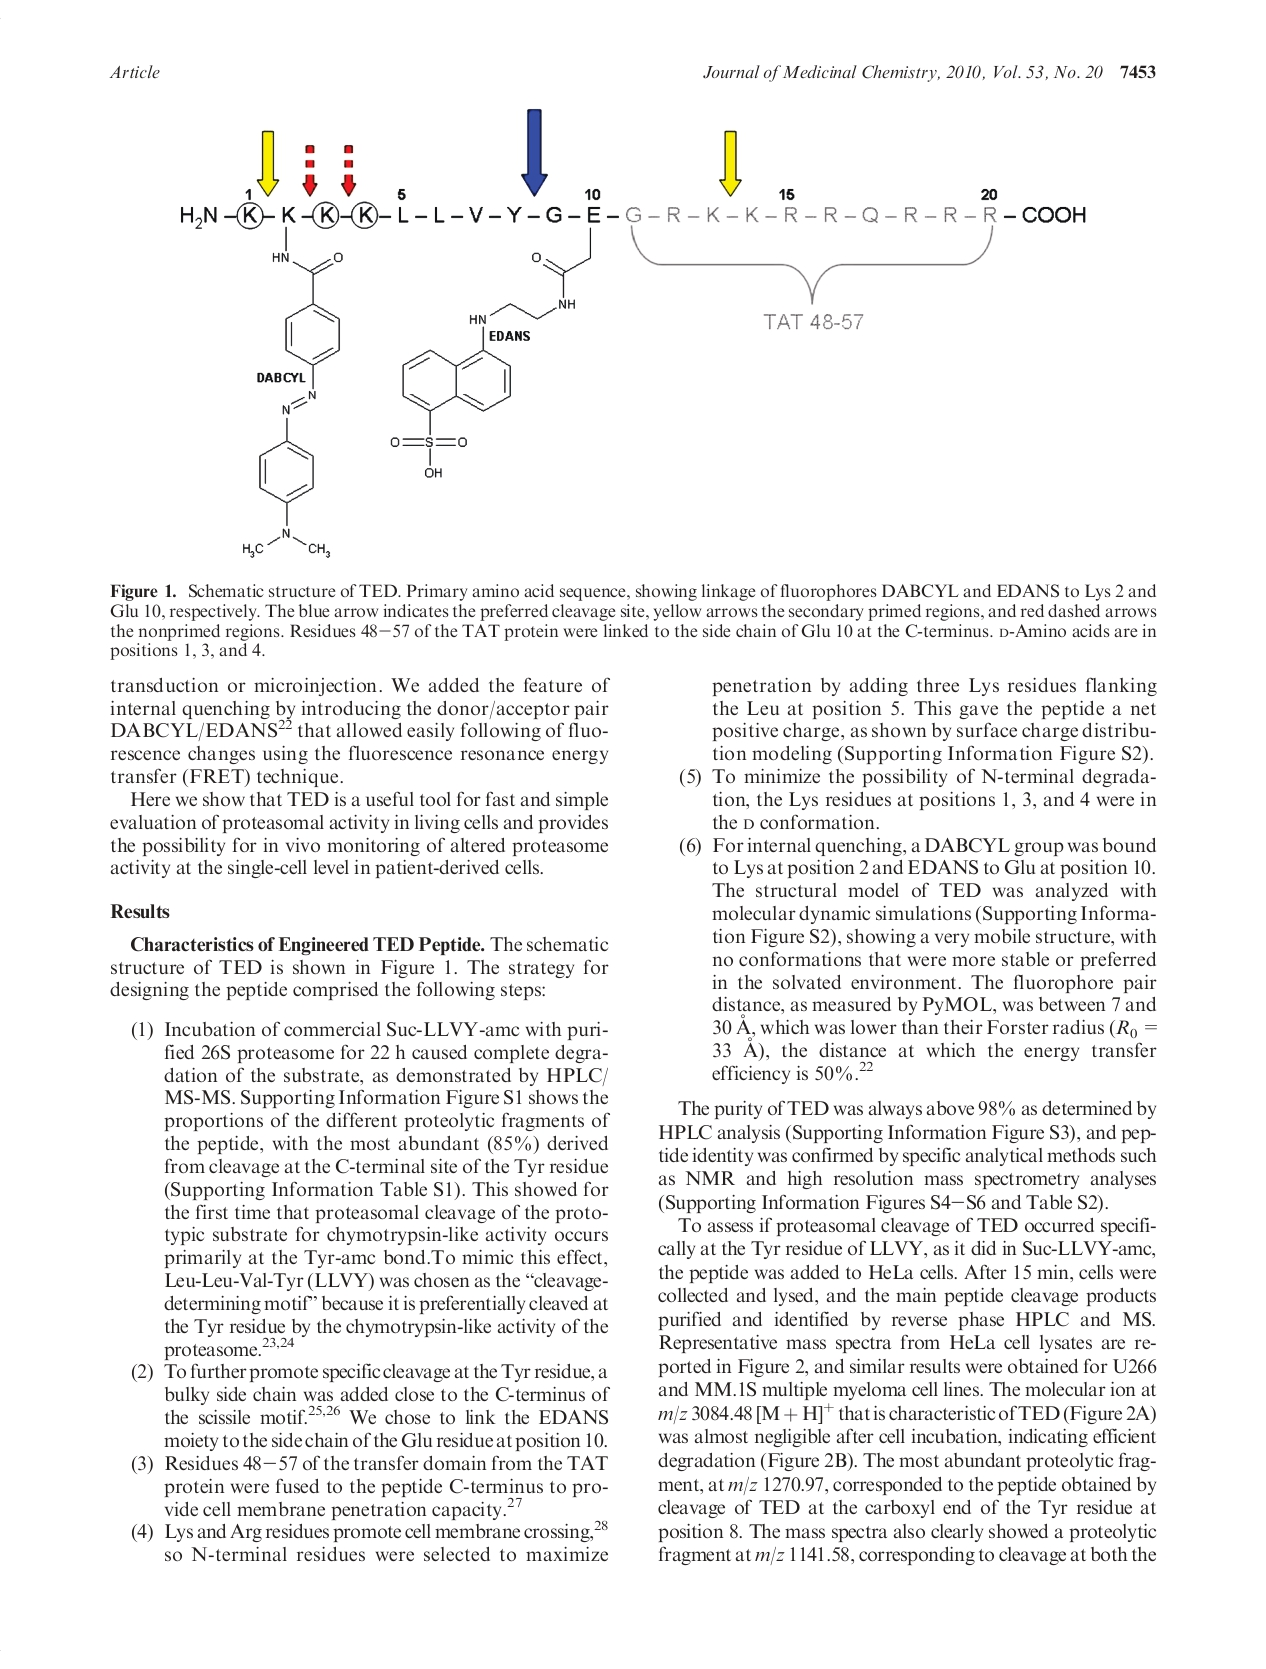exist_molecular: (388, 223, 597, 481), (231, 227, 340, 560)
